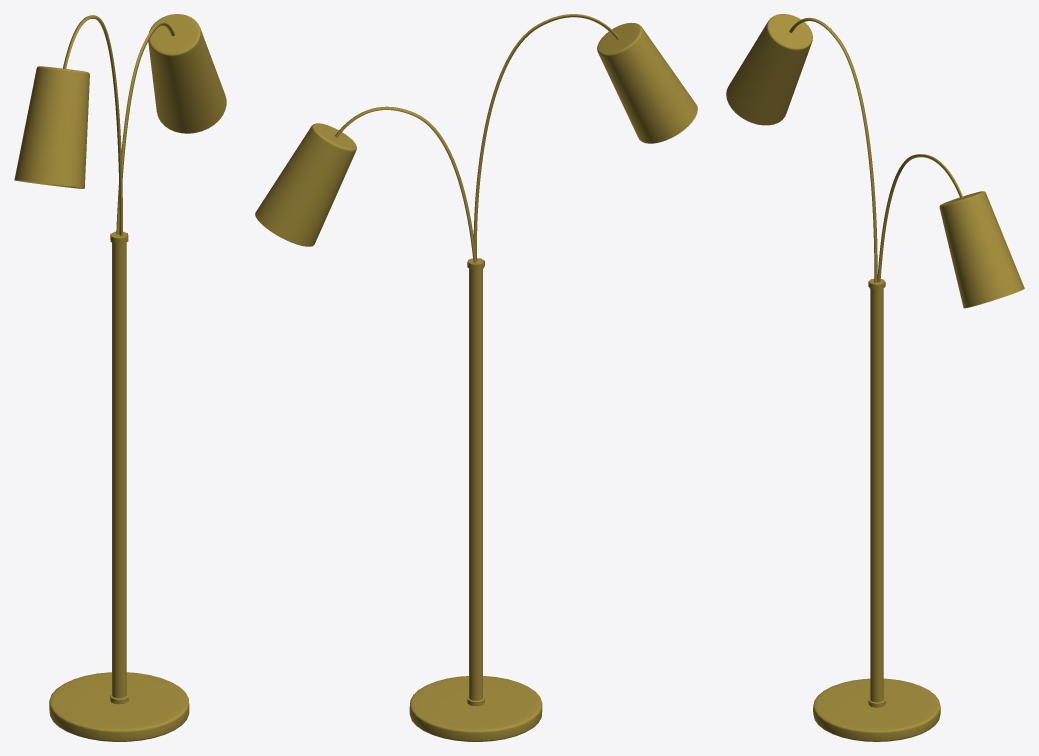
Rendered from Floor_Lamp_Gen_2.fbx.
3 renders of one model, left to right at view 1: azimuth 30°, elevation 25°; view 2: azimuth 150°, elevation 25°; view 3: azimuth 270°, elevation 25°, orthographic. The views are drawn at different scales.
Parts seen in each view (by area): view 1: mesh_lamp; view 2: mesh_lamp; view 3: mesh_lamp.
Part boxes in pixels (x1,y1,x2,y2): mesh_lamp: (14,14,226,741); mesh_lamp: (255,14,697,741); mesh_lamp: (726,14,1024,741).
Bounding box in the file's own units: 80.51 × 171 × 69.35.
